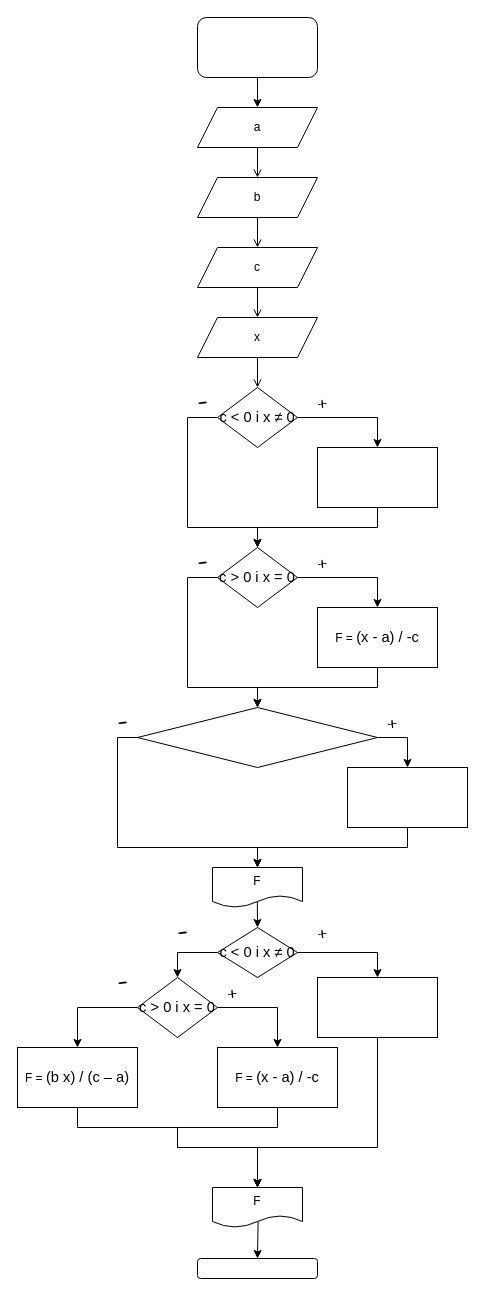
This 485x1296 diagram has some shape labels left out. Each missing label, with the box of its shape:
!(c < 0 i x != 0) i !(c > 0 i x == 0): (136, 706, 378, 768)
F = ( b x ) / (c – a): (346, 766, 468, 828)
F = - a x - c: (316, 446, 438, 508)
F = -a x - c: (316, 976, 438, 1038)
Кінець: (196, 1258, 318, 1278)
Початок: (196, 16, 318, 78)
